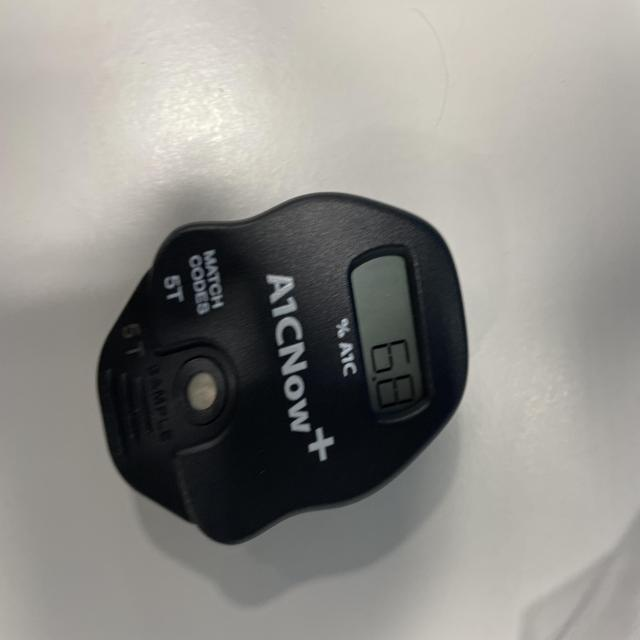hba1c: (95, 193, 470, 550)
